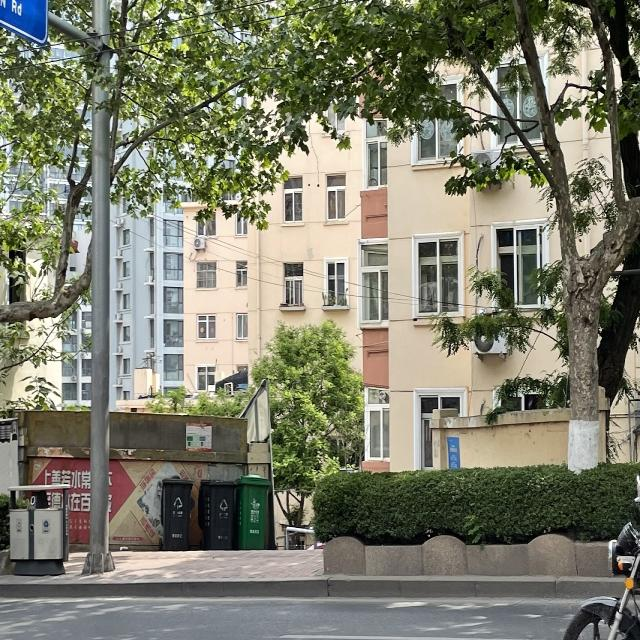garbage_bin: (5, 482, 71, 576), (233, 473, 268, 549), (198, 478, 234, 550), (160, 476, 193, 549)
